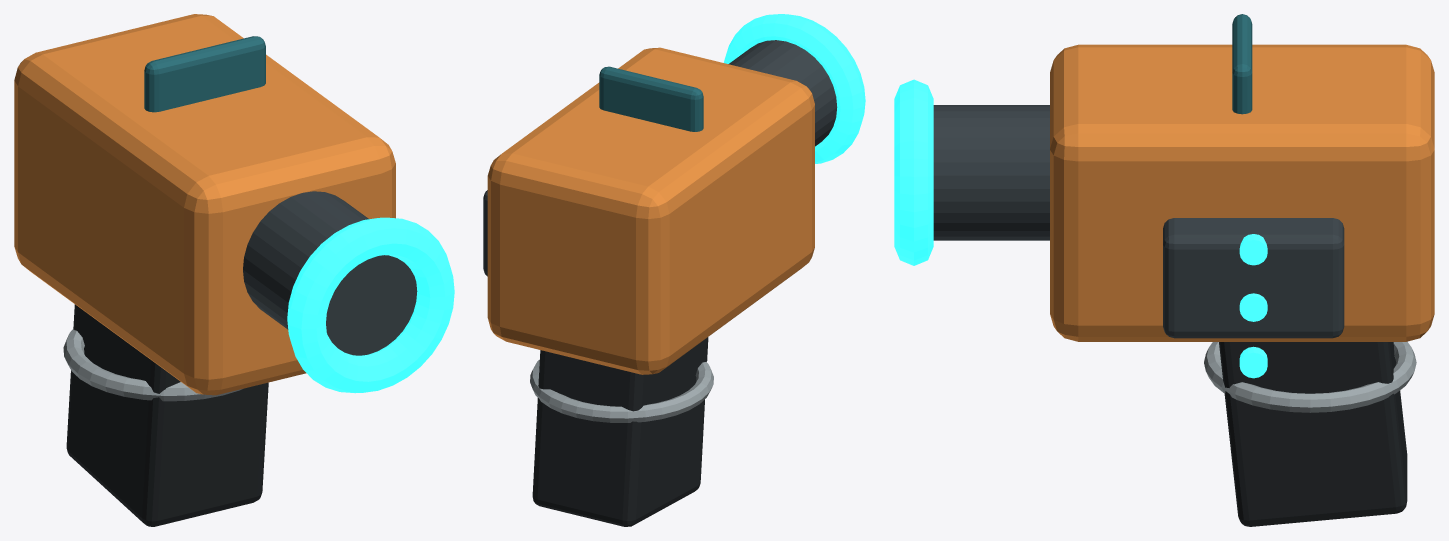
The model's file is build_gun_variant_c.glb.
3 renders of one model, left to right at view 1: azimuth 30°, elevation 25°; view 2: azimuth 150°, elevation 25°; view 3: azimuth 270°, elevation 25°, orthographic. The views are drawn at different scales.
Visible parts, largest first — view 1: Tool body, Tool grip, Emitter rim, Tool barrel, Top display, Service ring.001; view 2: Tool body, Tool grip, Emitter rim, Top display, Tool barrel, Service ring.001; view 3: Tool body, Tool grip, Side module, Tool barrel, Emitter rim, Service ring.001, Top display, Status indicator, Status indicator.002, Status indicator.001.
Boxes of the visible parts, x1,y1,x2,y2 form: Tool body: (14, 14, 395, 395); Tool grip: (66, 304, 268, 526); Emitter rim: (287, 217, 454, 393); Tool barrel: (243, 191, 417, 355); Top display: (144, 36, 265, 112); Service ring.001: (63, 329, 242, 401); Tool body: (487, 47, 814, 374); Tool grip: (532, 337, 708, 526); Emitter rim: (723, 14, 865, 163); Top display: (599, 66, 703, 131); Tool barrel: (728, 40, 837, 146); Service ring.001: (530, 359, 713, 422); Tool body: (1050, 44, 1434, 341); Tool grip: (1219, 342, 1407, 526); Side module: (1163, 218, 1344, 338); Tool barrel: (933, 105, 1049, 240); Emitter rim: (894, 79, 933, 265); Service ring.001: (1204, 341, 1416, 412); Top display: (1232, 14, 1252, 114); Status indicator: (1239, 346, 1267, 378); Status indicator.002: (1239, 234, 1267, 265); Status indicator.001: (1239, 293, 1267, 321).
Size of what is drawn, in the model's own units: 0.5225 by 0.9018 by 0.955.
